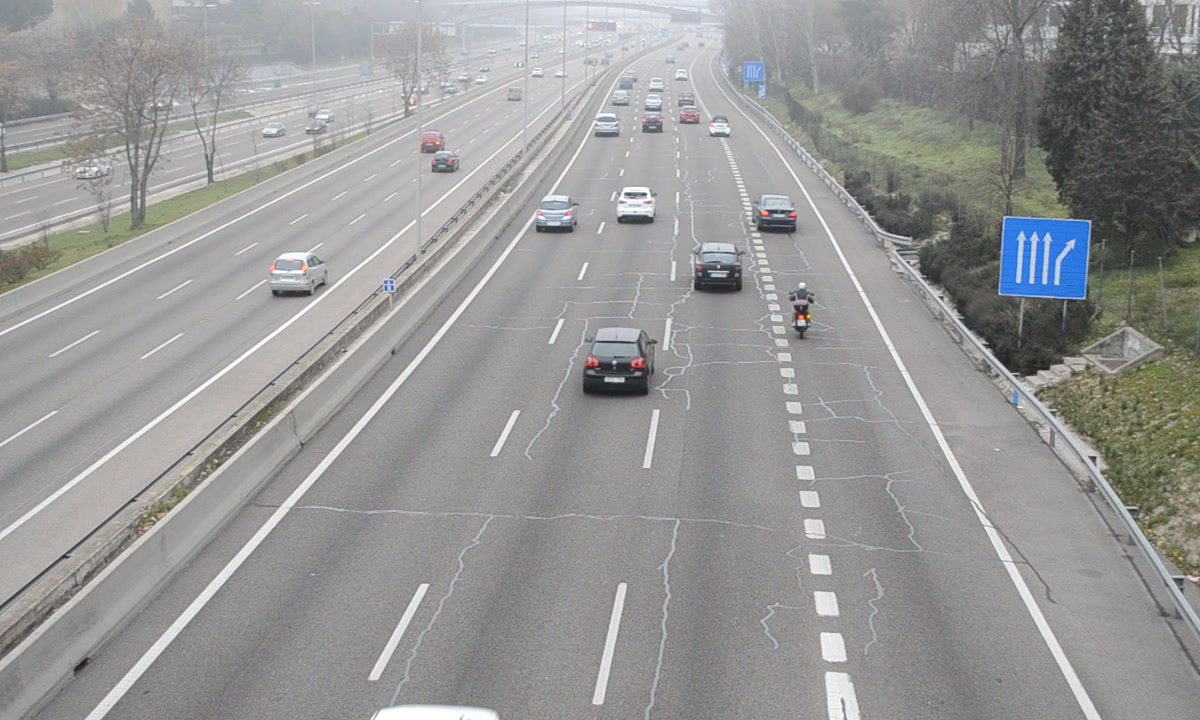car: (584, 327, 656, 394), (694, 244, 744, 292), (752, 193, 798, 233), (535, 196, 577, 232), (618, 187, 657, 223), (593, 110, 619, 136), (710, 114, 730, 138)
motorcycle: (788, 279, 816, 342)
